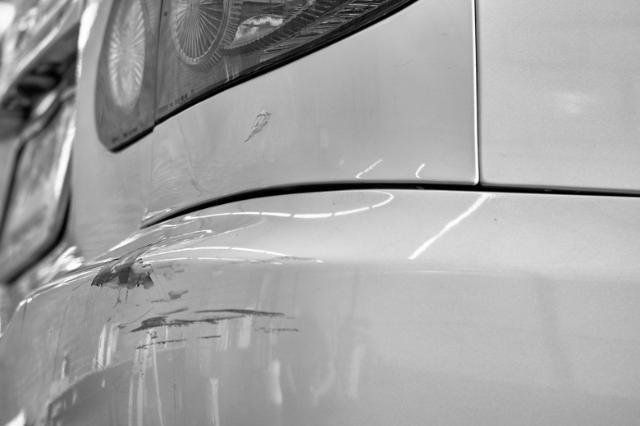Bumper: (48, 51, 411, 419)
